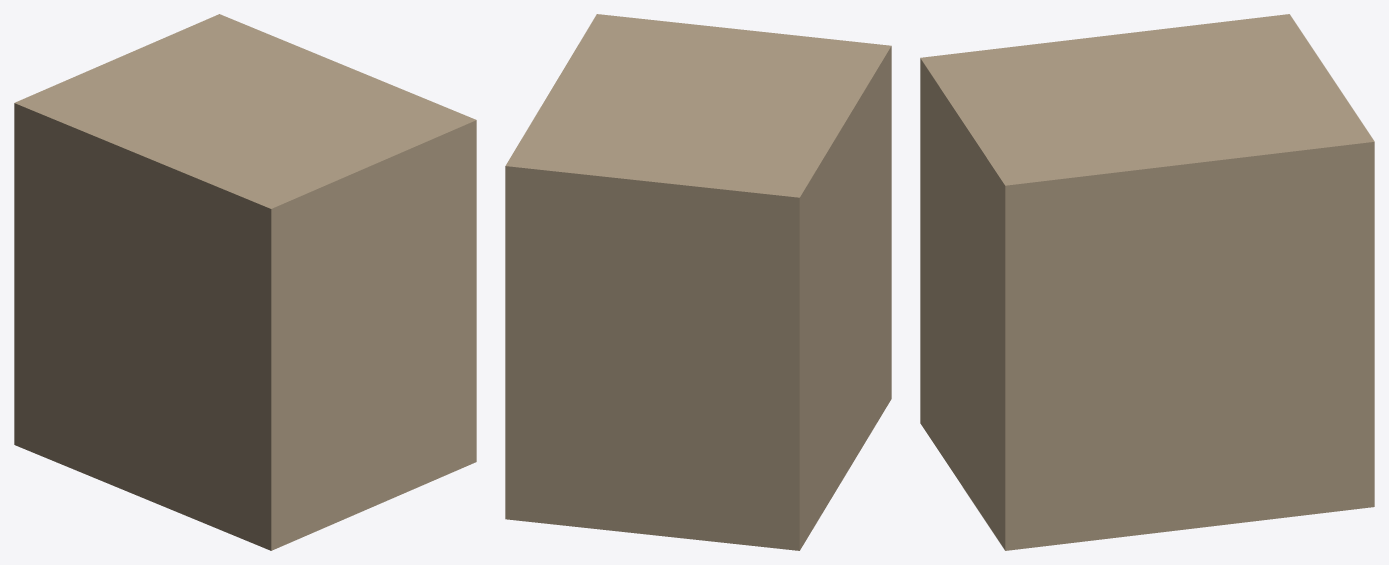
File: bld_99867654.dae
3 views of the same model, side by side, from view 1: azimuth 30°, elevation 25°; view 2: azimuth 150°, elevation 25°; view 3: azimuth 270°, elevation 25° (orthographic). The views are drawn at different scales.
Visible parts, largest first — view 1: bld_99867654; view 2: bld_99867654; view 3: bld_99867654.
Boxes of the visible parts, box(x1,y1,x2,y2) form: bld_99867654: box(14, 14, 476, 550); bld_99867654: box(505, 14, 891, 550); bld_99867654: box(920, 14, 1374, 550).
Bounding box in the file's own units: 8.07 × 9.02 × 8.
